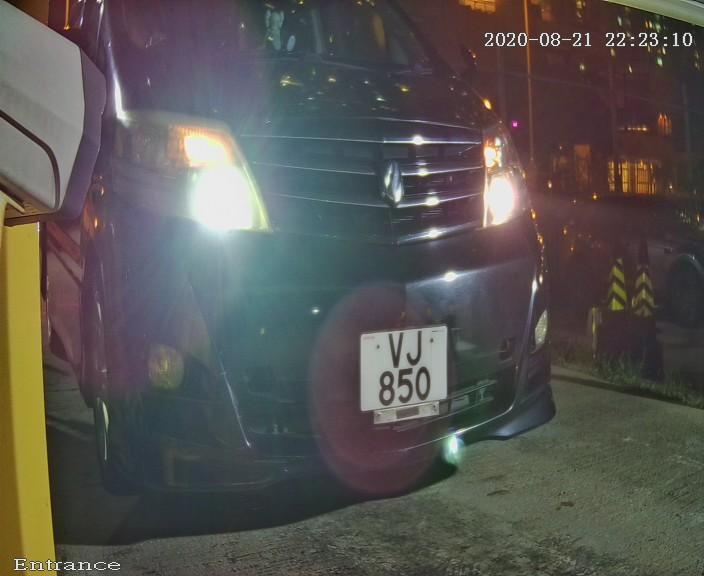Car: (35, 1, 588, 546)
License Plate: (353, 312, 459, 435)
